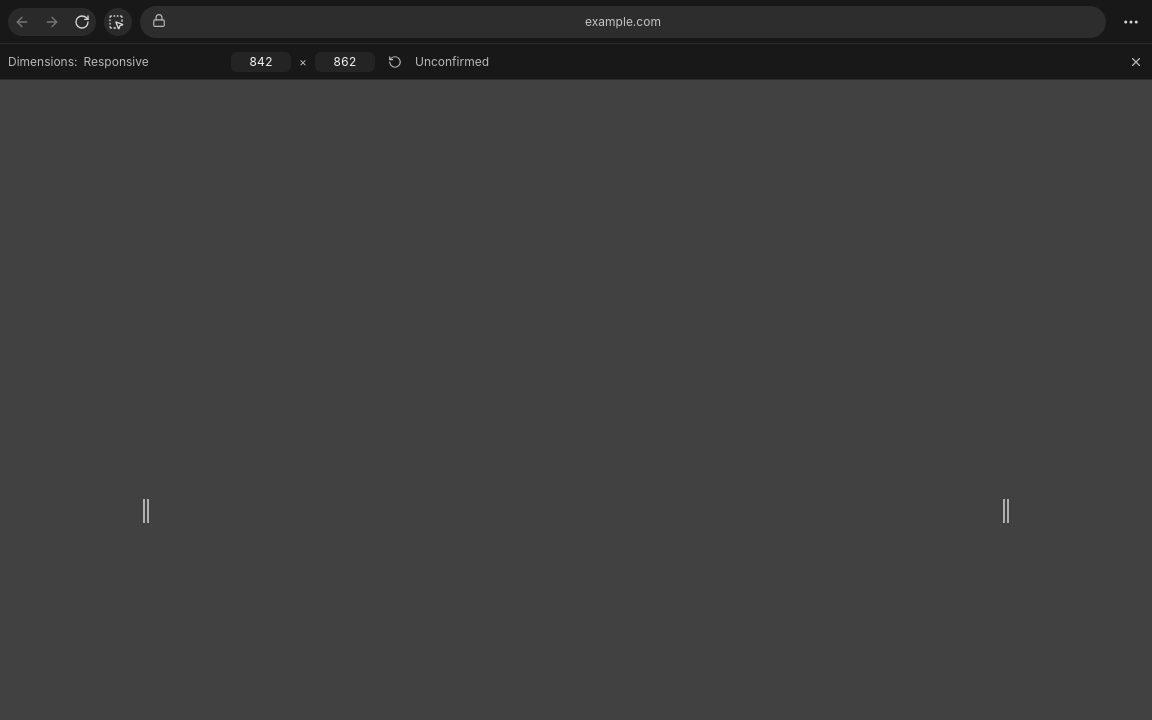
it: sends the first change after an Unconfirmed restore
Expected: the element named "Device toolbar" is shown, [0,44,1151,80]
Select "iPhone SE" in the dropdown labelled "Dimensions:" at {"x": 155, "y": 62}, box [80,50,231,74]
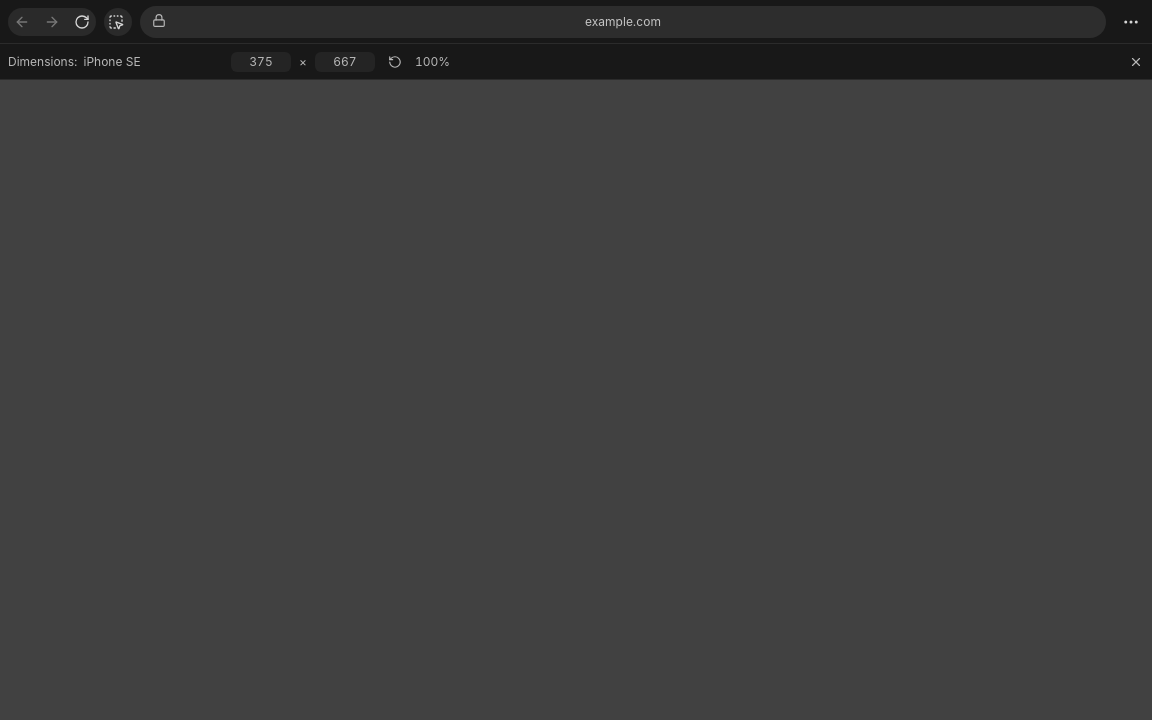
Expected: the text "Unconfirmed" is gone
